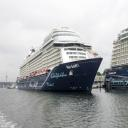cruises: (17, 25, 105, 100)
